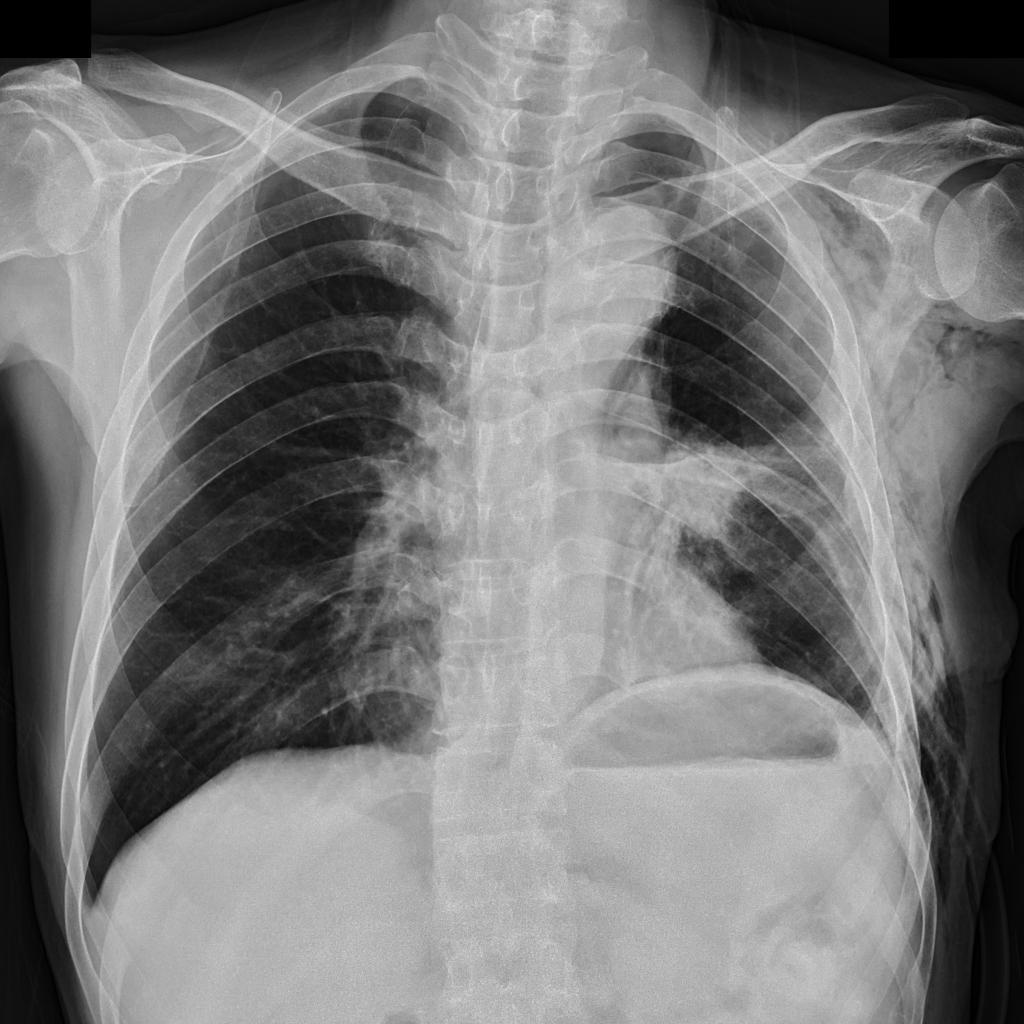Nodule: (659, 447, 745, 539)
